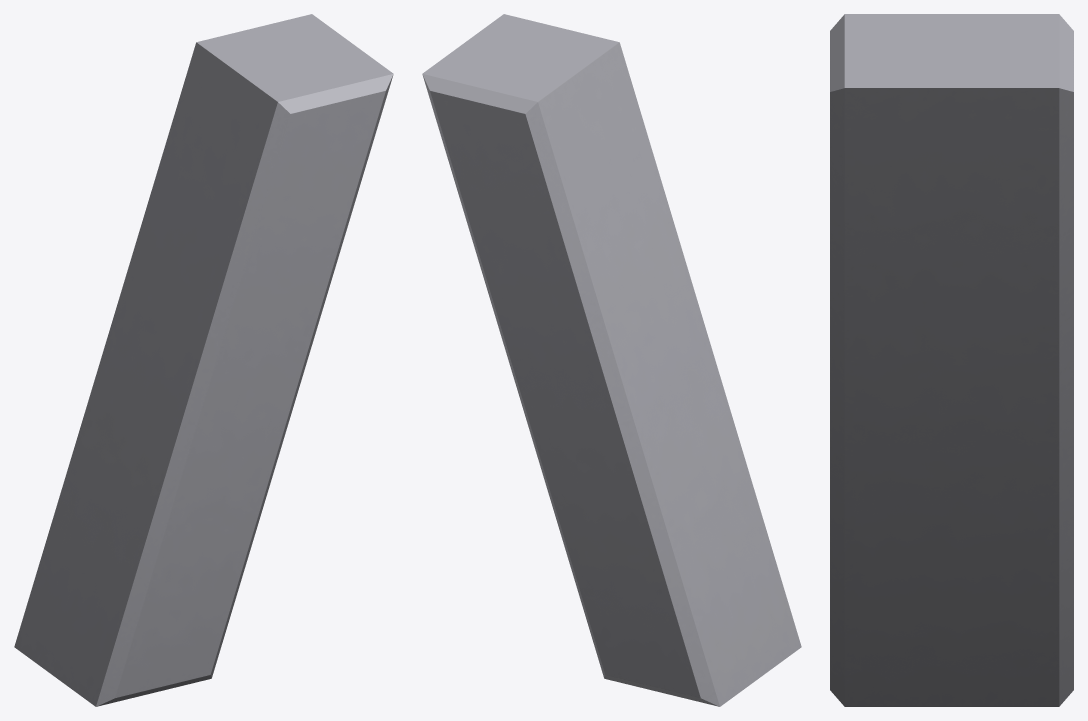
Rendered from Slash.FBX.
3 renders of one model, left to right at view 1: azimuth 30°, elevation 25°; view 2: azimuth 150°, elevation 25°; view 3: azimuth 270°, elevation 25°, orthographic. The views are drawn at different scales.
Visible parts, largest first — view 1: Slash; view 2: Slash; view 3: Slash.
Boxes of the visible parts, left/top/right/bottom form: Slash: left=14, top=14, right=393, bottom=706; Slash: left=422, top=14, right=801, bottom=706; Slash: left=830, top=14, right=1073, bottom=706.
Bounding box in the file's own units: 61.03 × 110 × 33.
